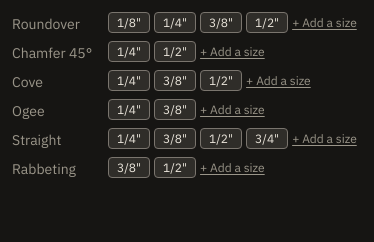
Test: <RouterBits> › refuses a bit of no size and says why
Click the button "+ Add a size" in the row of "Roundover": {"x": 324, "y": 22} [292,15,357,30]
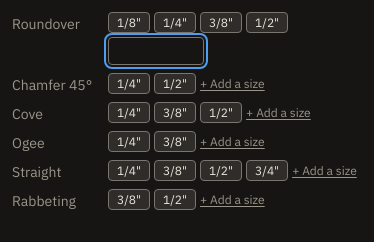
In the field named "Roundover size": {"x": 156, "y": 51} [108,37,204,65], type "0\""
Then press Enter
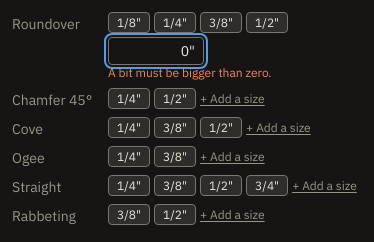
Now the text "A bit must be bigger than zero." is shown, box [108,65,272,80]
